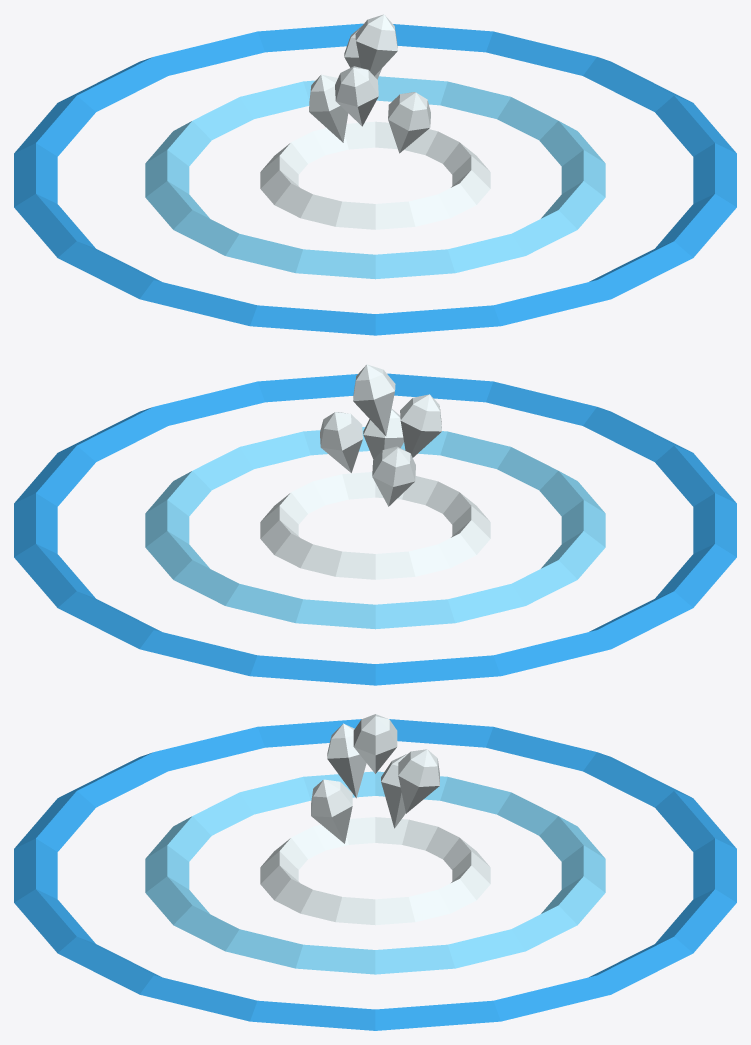
Rendered from fx_water_ripples_splash.glb.
The picture shows the model from 3 angles, top to bottom: view 1: azimuth 30°, elevation 25°; view 2: azimuth 150°, elevation 25°; view 3: azimuth 270°, elevation 25°; orthographic projection.
Visible parts, largest first — view 1: fx_water_ripples_splash_water_azure, fx_water_ripples_splash_water_light, fx_water_ripples_splash_water_foam; view 2: fx_water_ripples_splash_water_azure, fx_water_ripples_splash_water_light, fx_water_ripples_splash_water_foam; view 3: fx_water_ripples_splash_water_azure, fx_water_ripples_splash_water_light, fx_water_ripples_splash_water_foam.
Part boxes in pixels (bbox=[...]): fx_water_ripples_splash_water_azure: bbox=[14, 23, 736, 335]; fx_water_ripples_splash_water_light: bbox=[145, 76, 605, 279]; fx_water_ripples_splash_water_foam: bbox=[260, 14, 490, 229]; fx_water_ripples_splash_water_azure: bbox=[14, 373, 736, 685]; fx_water_ripples_splash_water_light: bbox=[145, 426, 605, 629]; fx_water_ripples_splash_water_foam: bbox=[260, 364, 490, 579]; fx_water_ripples_splash_water_azure: bbox=[14, 719, 736, 1030]; fx_water_ripples_splash_water_light: bbox=[145, 771, 605, 974]; fx_water_ripples_splash_water_foam: bbox=[260, 714, 490, 925].
Size of the model in its own units: 1.32 by 0.3253 by 1.3.
